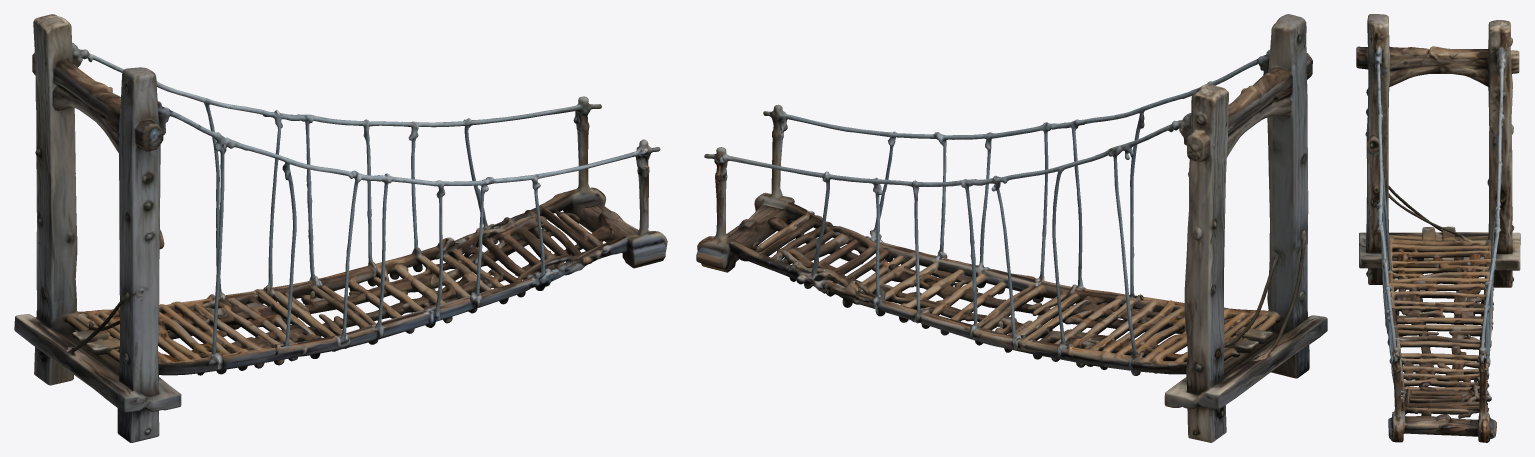
Rendered from city-bridge-suspension.glb.
3 renders of one model, left to right at view 1: azimuth 30°, elevation 25°; view 2: azimuth 150°, elevation 25°; view 3: azimuth 270°, elevation 25°, orthographic. The views are drawn at different scales.
Parts seen in each view (by area): view 1: tripo_node_a715a30b-312f-4d94-92a6-84eb727268fc; view 2: tripo_node_a715a30b-312f-4d94-92a6-84eb727268fc; view 3: tripo_node_a715a30b-312f-4d94-92a6-84eb727268fc.
Part boxes in pixels (<box>): tripo_node_a715a30b-312f-4d94-92a6-84eb727268fc: <box>14,14,667,442</box>; tripo_node_a715a30b-312f-4d94-92a6-84eb727268fc: <box>696,14,1327,442</box>; tripo_node_a715a30b-312f-4d94-92a6-84eb727268fc: <box>1356,14,1520,442</box>.
Size of the model in its own units: 3.2 by 2 by 1.11.
Materials: 1 (1 with a texture image).
